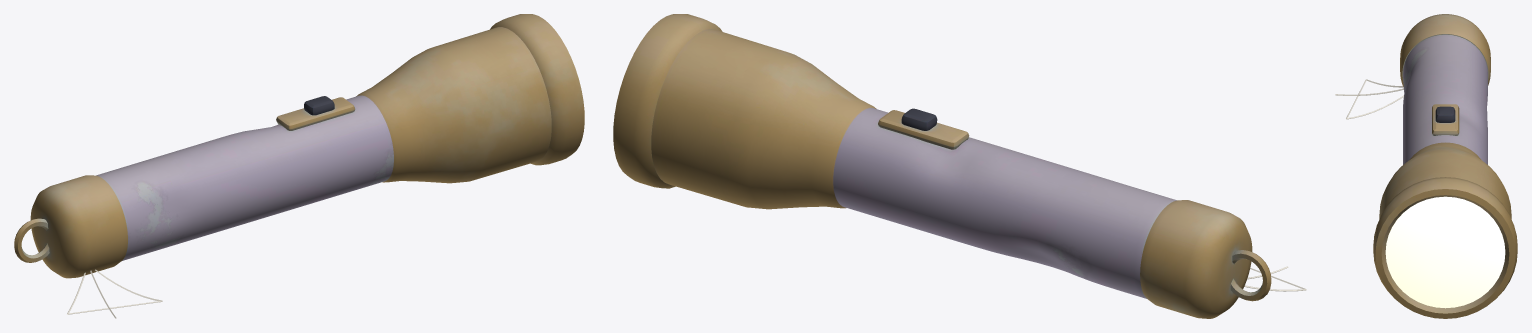
The model's file is flashlight.glb.
3 views of the same model, side by side, from view 1: azimuth 30°, elevation 25°; view 2: azimuth 150°, elevation 25°; view 3: azimuth 270°, elevation 25° (orthographic). The views are drawn at different scales.
Visible parts, largest first — view 1: flashlight_body, flashlight_web; view 2: flashlight_body; view 3: flashlight_body, flashlight_lens_glow, flashlight_web.
Part boxes in pixels (left/top/right/bottom): flashlight_body: left=14, top=14, right=584, bottom=278; flashlight_web: left=67, top=269, right=162, bottom=318; flashlight_body: left=613, top=14, right=1271, bottom=318; flashlight_body: left=1373, top=14, right=1517, bottom=318; flashlight_lens_glow: left=1385, top=196, right=1505, bottom=308; flashlight_web: left=1335, top=79, right=1403, bottom=119.
Size of the model in its own units: 0.2675 by 0.0669 by 0.0829.
3 materials, 1 textured.
